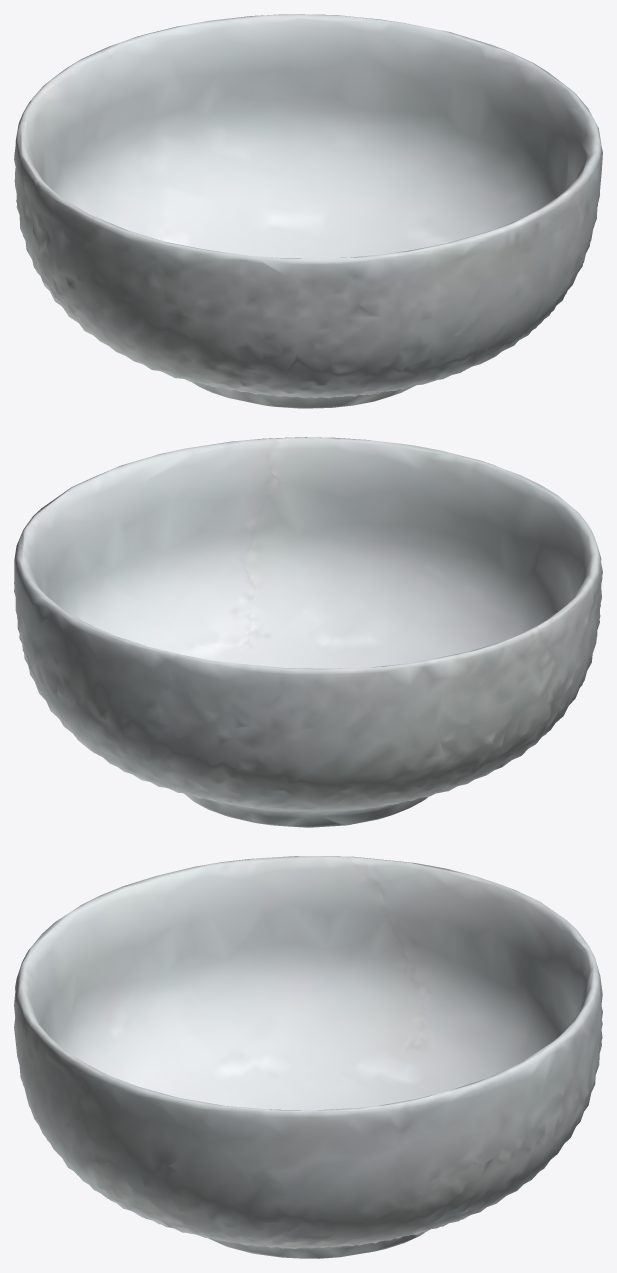
The model's file is Threshold_Bead_Cereal_Bowl_White-high.glb.
The picture shows the model from 3 angles, top to bottom: view 1: azimuth 30°, elevation 25°; view 2: azimuth 150°, elevation 25°; view 3: azimuth 270°, elevation 25°; orthographic projection.
Parts seen in each view (by area): view 1: Threshold_Bead_Cereal_Bowl_White; view 2: Threshold_Bead_Cereal_Bowl_White; view 3: Threshold_Bead_Cereal_Bowl_White.
Boxes of the visible parts, box(x1,y1,x2,y2) form: Threshold_Bead_Cereal_Bowl_White: box(14, 14, 602, 408); Threshold_Bead_Cereal_Bowl_White: box(14, 437, 602, 827); Threshold_Bead_Cereal_Bowl_White: box(14, 856, 602, 1258).
Bounding box in the file's own units: 0.1698 × 0.0707 × 0.1663.
1 material, 1 textured.
